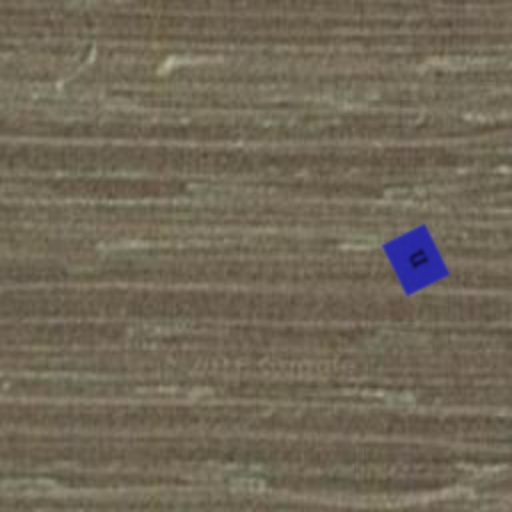rectangle: (376, 220, 456, 300)
